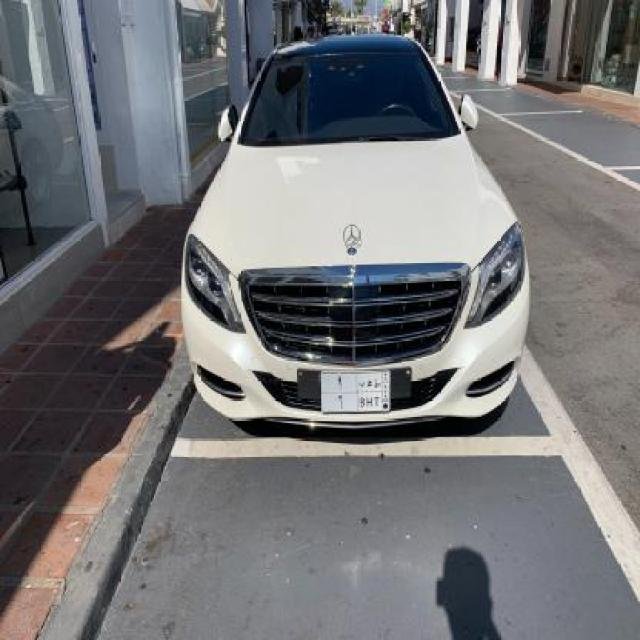license_plate: (318, 368, 393, 415)
